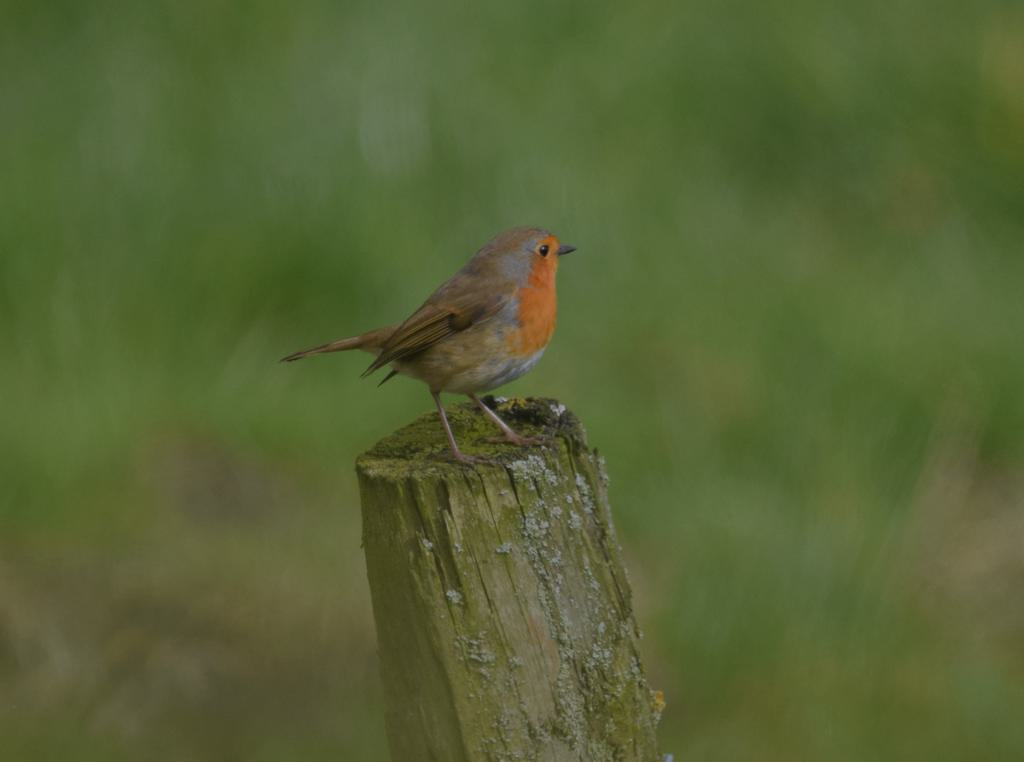ErithacusRubecula: (278, 224, 576, 465)
